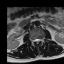CCS_normal: (36, 37, 38, 45)
LFS_normal: (40, 37, 42, 43)
LLS_normal: (38, 37, 40, 43)
RFS_normal: (32, 37, 34, 43)
RLS_normal: (34, 37, 36, 43)
